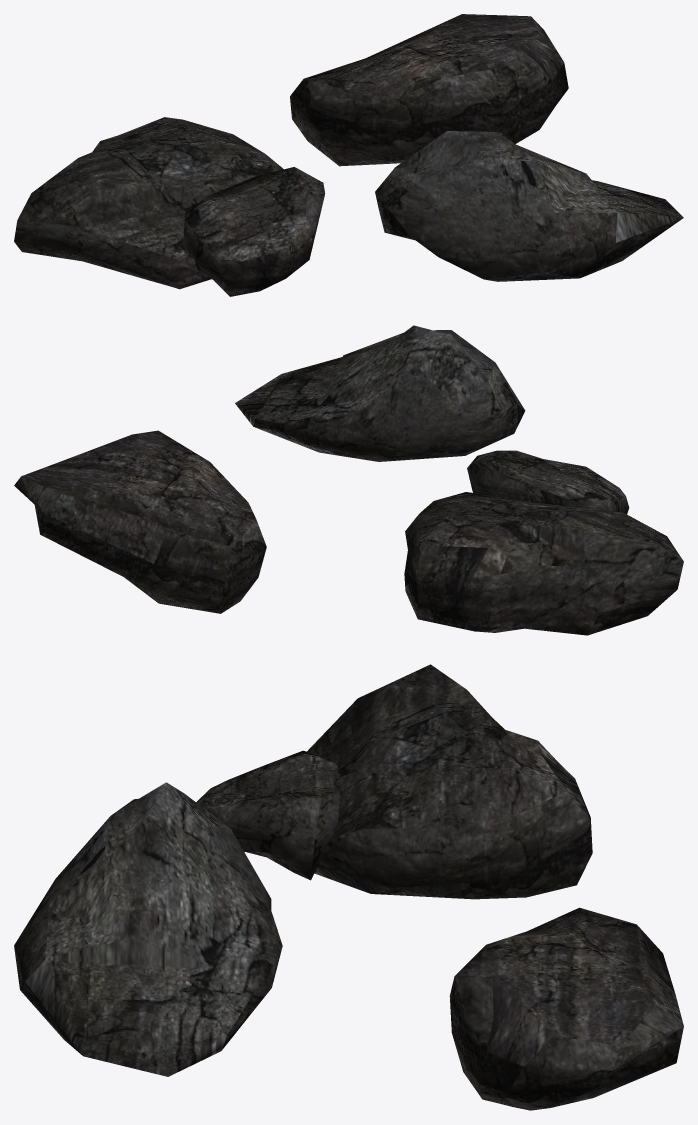
The model's file is Rocks 2.glb.
3 renders of one model, top to bottom at view 1: azimuth 30°, elevation 25°; view 2: azimuth 150°, elevation 25°; view 3: azimuth 270°, elevation 25°, orthographic. The views are drawn at different scales.
Visible parts, largest first — view 1: rocks_2_low; view 2: rocks_2_low; view 3: rocks_2_low.
Boxes of the visible parts, left/top/right/bottom form: rocks_2_low: left=14, top=14, right=683, bottom=296; rocks_2_low: left=14, top=325, right=683, bottom=635; rocks_2_low: left=14, top=664, right=683, bottom=1110.
Size of the model in its own units: 0.3945 by 0.1058 by 0.2946.
1 material, 1 textured.
